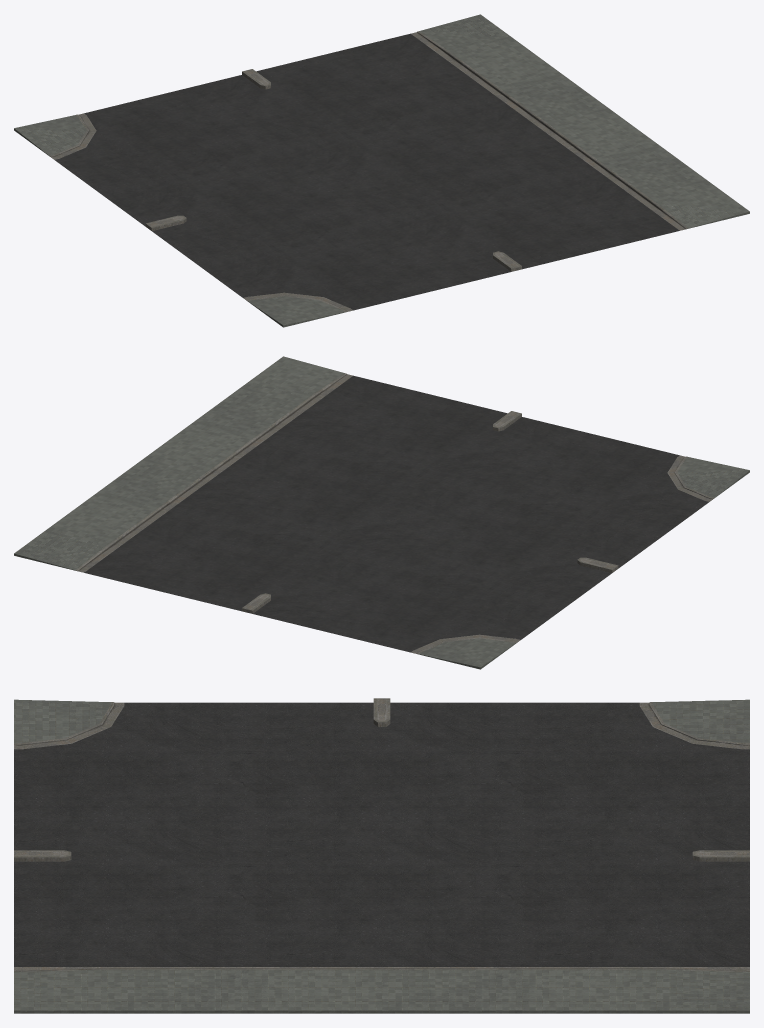
Rendered from jctlowRoadT22mA_a.fbx.
The picture shows the model from 3 angles, top to bottom: view 1: azimuth 30°, elevation 25°; view 2: azimuth 150°, elevation 25°; view 3: azimuth 270°, elevation 25°; orthographic projection. The views are drawn at different scales.
Parts seen in each view (by area): view 1: jctlowRoadT22mA_a; view 2: jctlowRoadT22mA_a; view 3: jctlowRoadT22mA_a.
Boxes of the visible parts, x1,y1,x2,y2 form: jctlowRoadT22mA_a: (14, 14, 749, 327); jctlowRoadT22mA_a: (14, 356, 749, 669); jctlowRoadT22mA_a: (14, 698, 749, 1013).
Size of the model in its own units: 2200 by 15 by 2200.
Materials: 3 (3 with a texture image).
